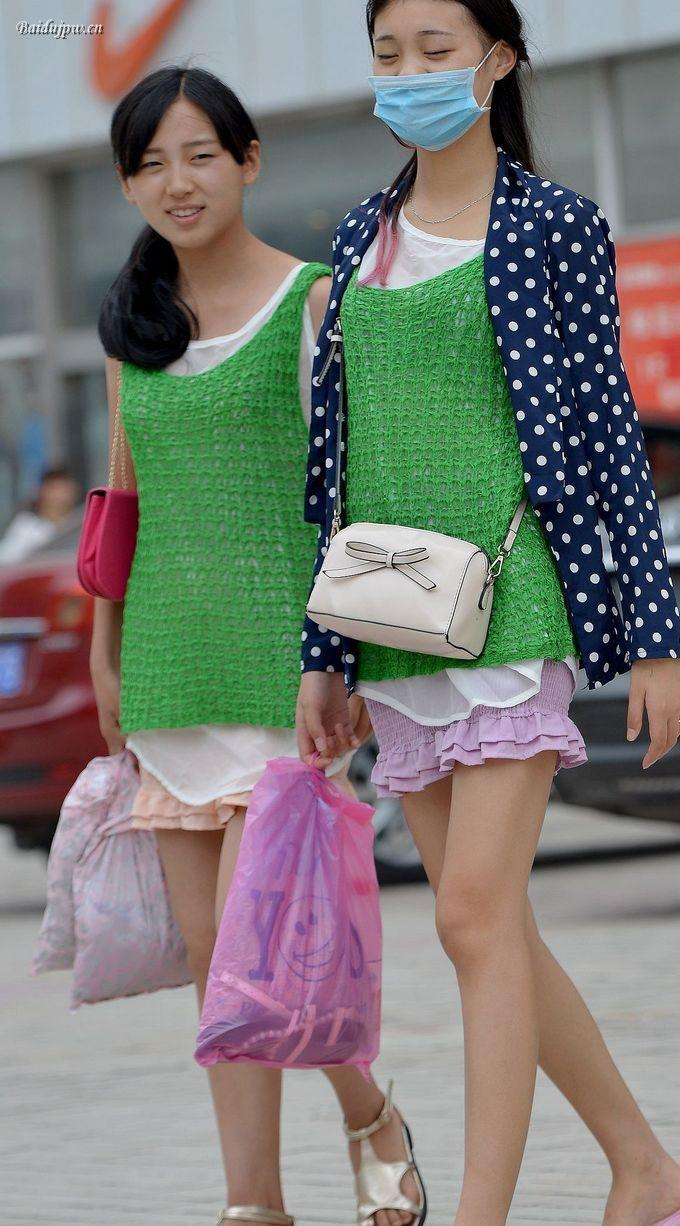NONE: (128, 121, 242, 244)
WRONG: (372, 14, 508, 150)
